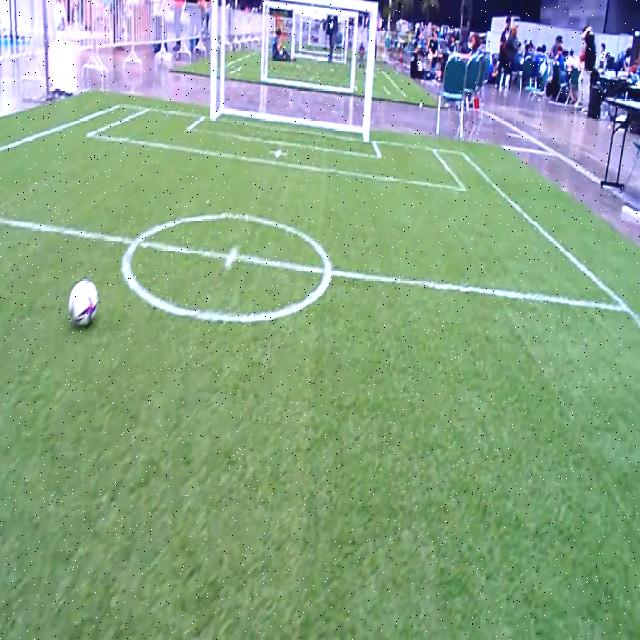ball: (69, 280, 98, 328)
